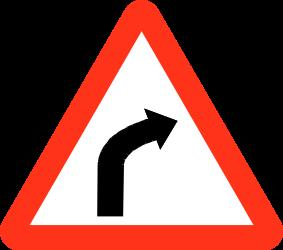Right Hand Curve: (22, 18, 264, 244)
